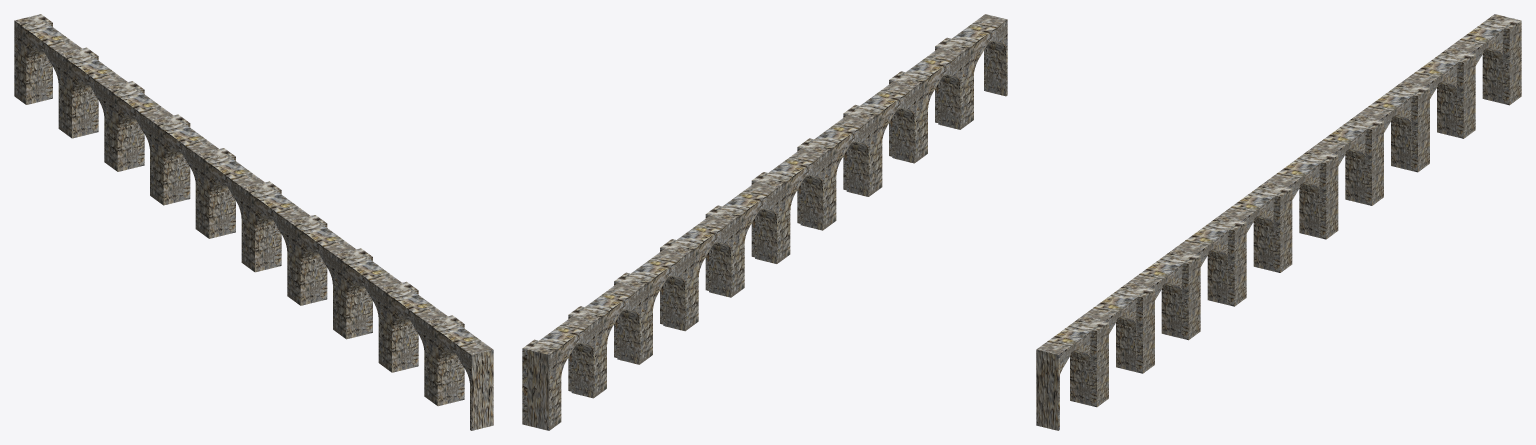
Rendered from front_windows.fbx.
The picture shows the model from 3 angles, left to right: view 1: azimuth 30°, elevation 25°; view 2: azimuth 150°, elevation 25°; view 3: azimuth 330°, elevation 25°; orthographic projection.
Visible parts, largest first — view 1: window_frame_out; view 2: window_frame_out; view 3: window_frame_out.
Part boxes in pixels (box(x1,y1,x2,y2)): window_frame_out: box(14, 14, 493, 430); window_frame_out: box(522, 14, 1007, 430); window_frame_out: box(1036, 14, 1521, 430).
Bounding box in the file's own units: 124 × 336 × 3668.
Materials: 1 (1 with a texture image).
